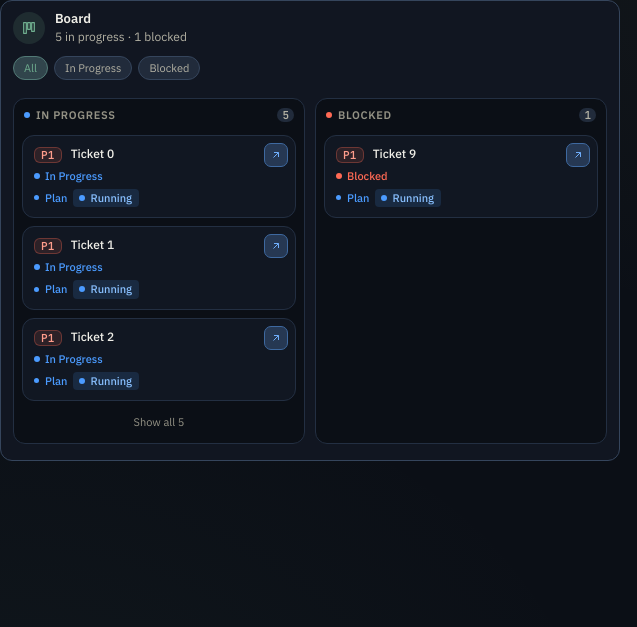
the board › always offers the column filter: All shows three tiles a column, and a column alone shows more
Check: the text "5 in progress · 1 blocked" is shown, box [55,29,187,44]
Check: the number of headings "Ticket 0" is 4, box [71,146,114,161]; [71,237,114,252]; [71,329,114,344]; [373,146,416,161]
Click the button "Show all 5" at (159, 422), box [22,409,296,435]
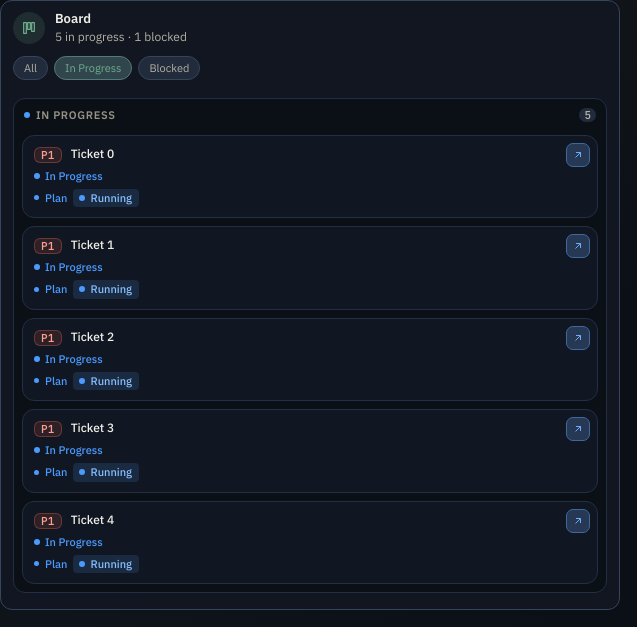
Check: the number of headings "Ticket 0" is 5, box [71,146,114,161]; [71,237,114,252]; [71,329,114,344]; [71,420,114,435]; [71,512,114,527]
